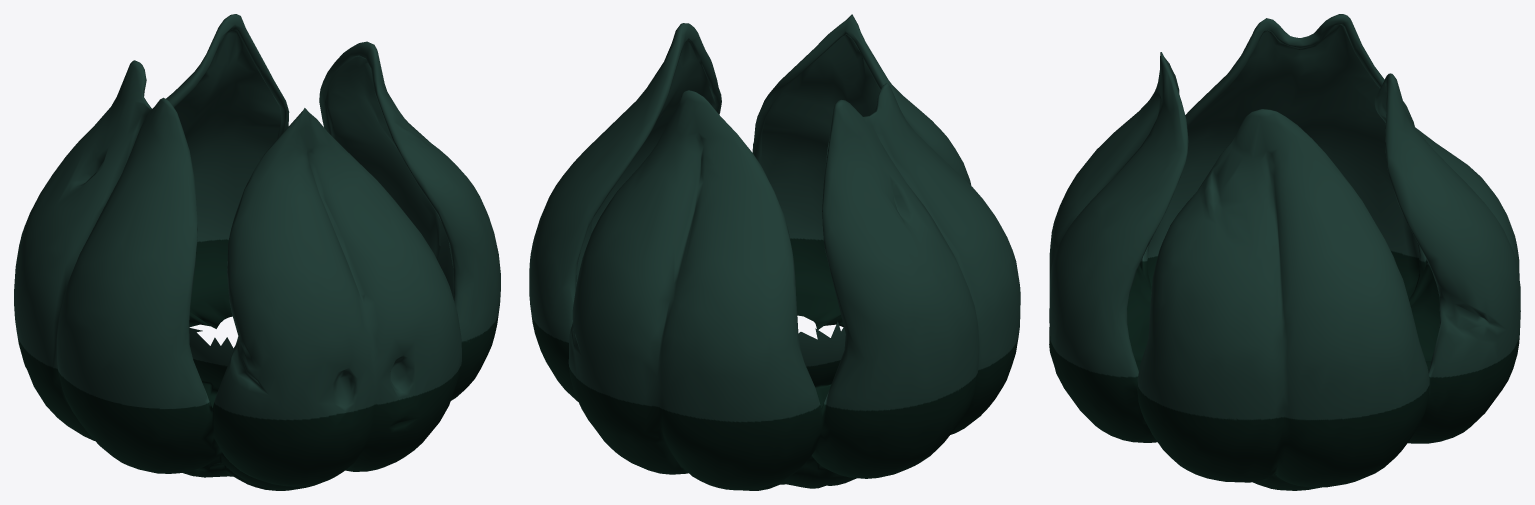
Rendered from wisp-lod.glb.
3 views of the same model, side by side, from view 1: azimuth 30°, elevation 25°; view 2: azimuth 150°, elevation 25°; view 3: azimuth 270°, elevation 25° (orthographic).
Parts seen in each view (by area): view 1: cinder wisp tripo lod; view 2: cinder wisp tripo lod; view 3: cinder wisp tripo lod.
Part boxes in pixels (x1,y1,x2,y2): cinder wisp tripo lod: [14, 14, 500, 490]; cinder wisp tripo lod: [529, 14, 1020, 490]; cinder wisp tripo lod: [1049, 14, 1520, 490].
Bounding box in the file's own units: 1.38 × 1.3 × 1.36.
Materials: 1 (1 with a texture image).
